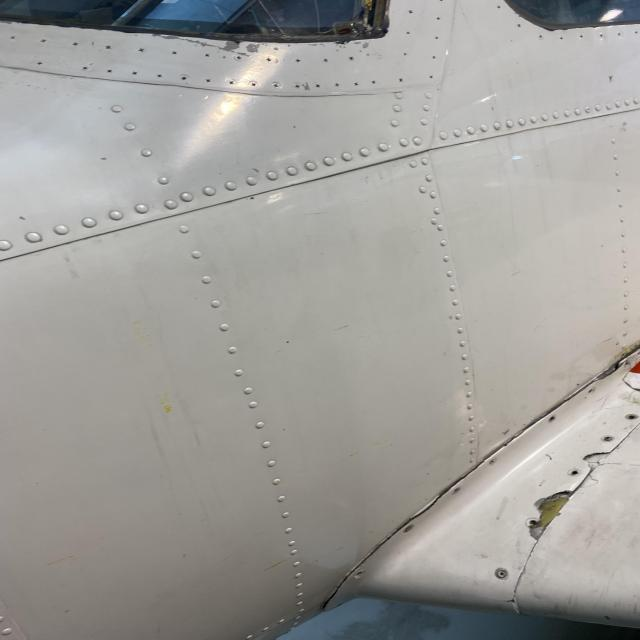Crack: (525, 484, 580, 542), (350, 511, 410, 562), (312, 570, 350, 611), (412, 491, 445, 521), (578, 449, 618, 471), (593, 361, 624, 384), (489, 590, 528, 608)
Missing_Fastener: (448, 485, 464, 496), (567, 466, 581, 478), (353, 568, 367, 580), (624, 412, 640, 422), (586, 388, 598, 396), (546, 416, 558, 422)
